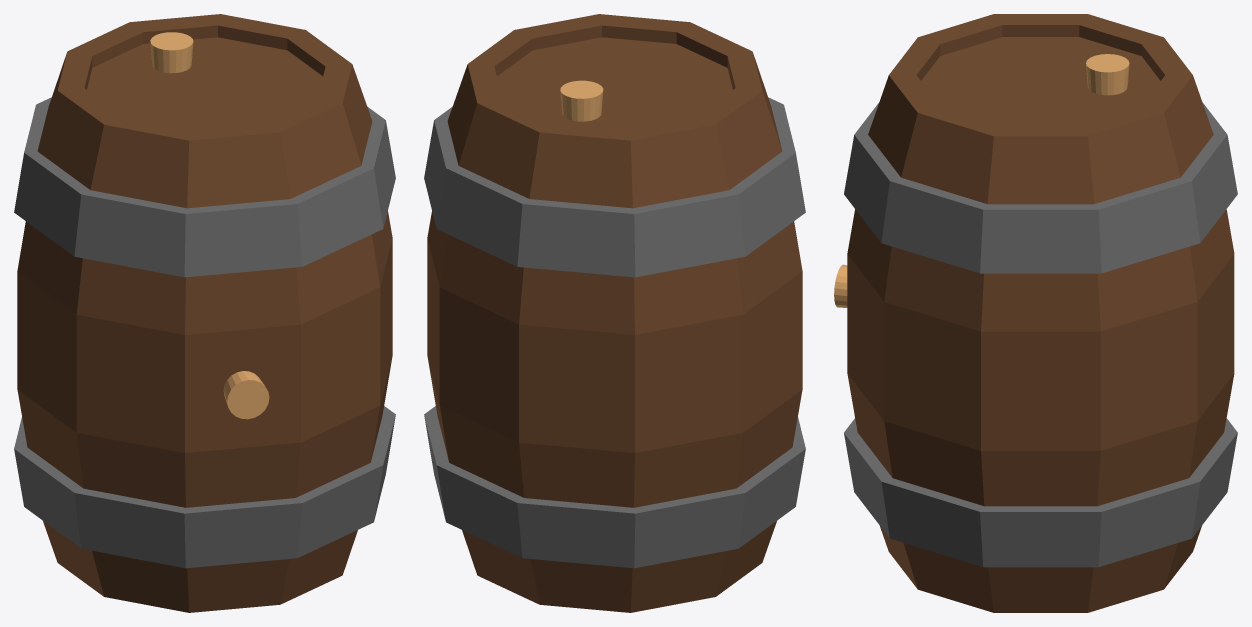
Rendered from Poudre.fbx.
3 views of the same model, side by side, from view 1: azimuth 30°, elevation 25°; view 2: azimuth 150°, elevation 25°; view 3: azimuth 270°, elevation 25° (orthographic).
Visible parts, largest first — view 1: Poudre canon; view 2: Poudre canon; view 3: Poudre canon.
Part boxes in pixels (box(x1,y1,x2,y2)): Poudre canon: box(14, 14, 395, 612); Poudre canon: box(424, 14, 805, 612); Poudre canon: box(834, 14, 1237, 612).
Bounding box in the file's own units: 285 × 307 × 410.
